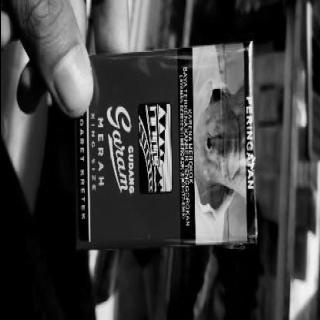objects: (74, 42, 256, 250)
